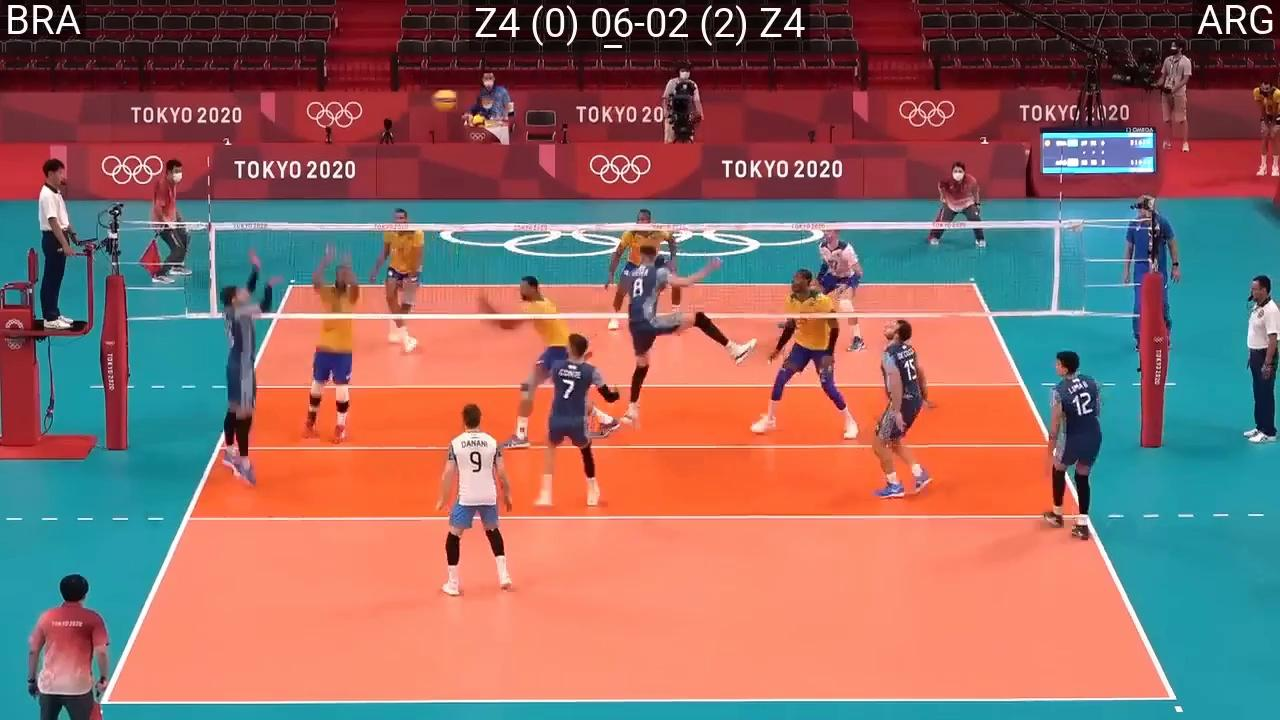ball: (431, 89, 456, 112)
